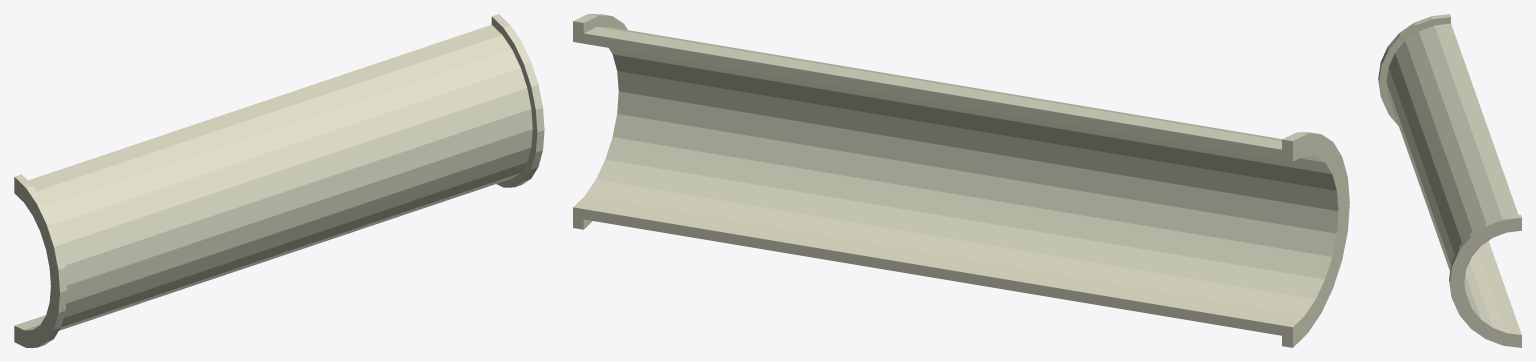
Rendered from section_226.obj.
3 views of the same model, side by side, from view 1: azimuth 30°, elevation 25°; view 2: azimuth 150°, elevation 25°; view 3: azimuth 270°, elevation 25° (orthographic). The views are drawn at different scales.
Bounding box in the file's own units: 67.09 × 20 × 20.
